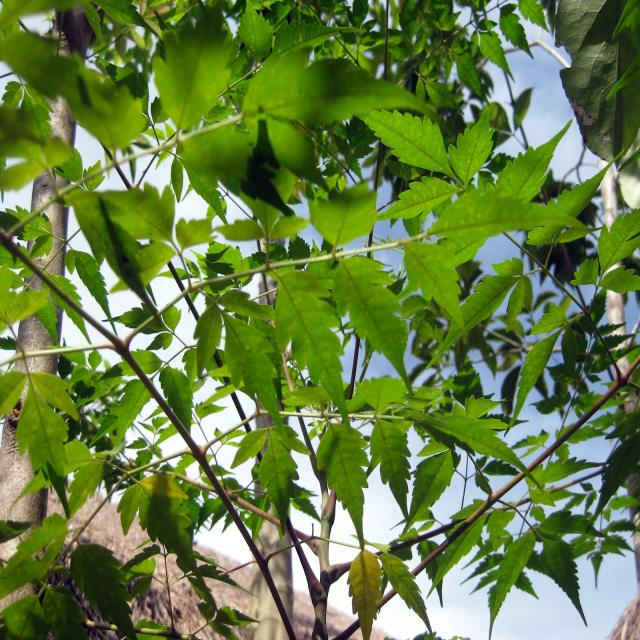Medicinal-Neem: (11, 7, 620, 604)
